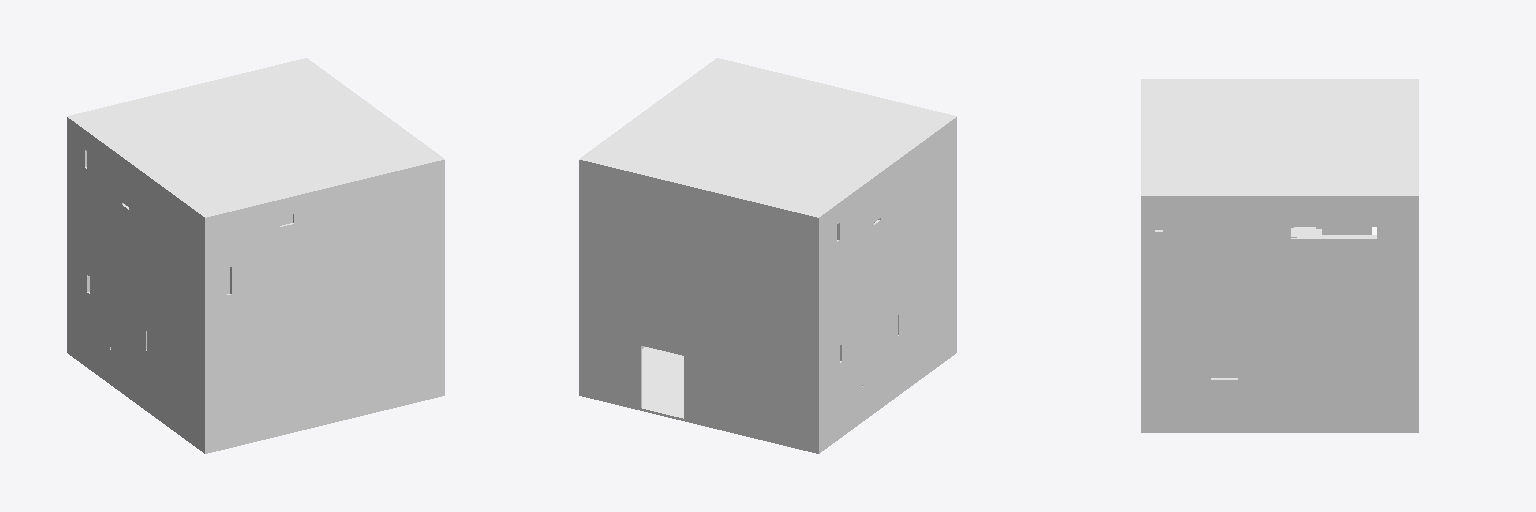
The model's file is house.obj.
3 views of the same model, side by side, from view 1: azimuth 30°, elevation 25°; view 2: azimuth 150°, elevation 25°; view 3: azimuth 270°, elevation 25° (orthographic).
Bounding box in the file's own units: 100 × 94 × 100.